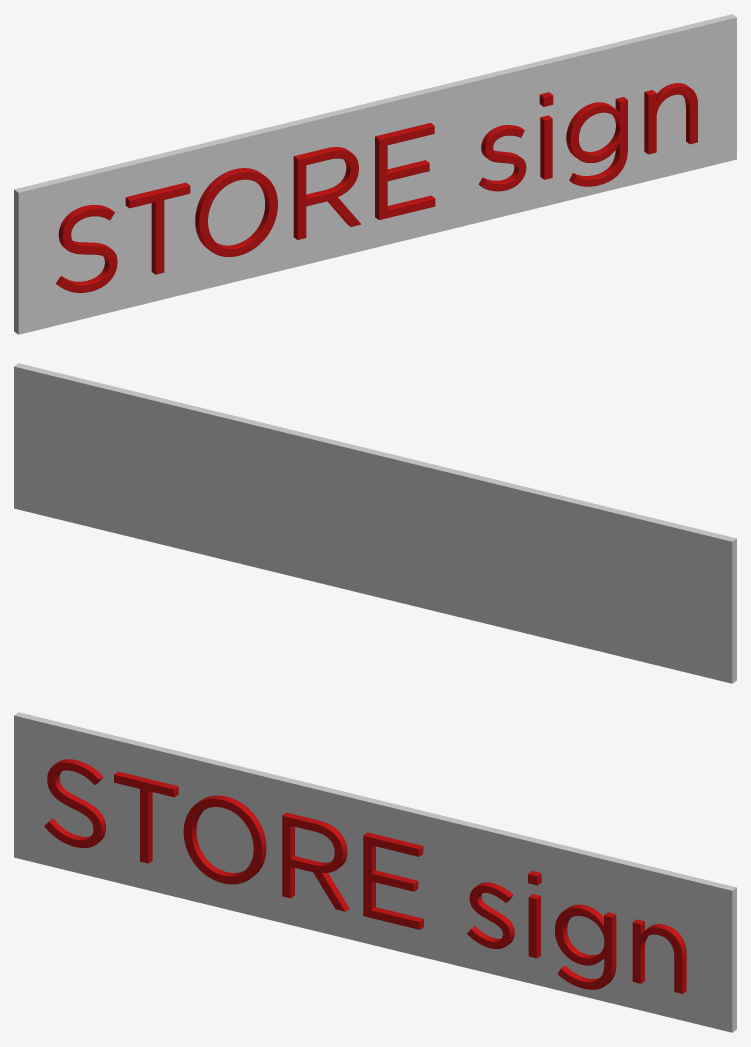
The model's file is store sign.obj.
3 renders of one model, top to bottom at view 1: azimuth 30°, elevation 25°; view 2: azimuth 150°, elevation 25°; view 3: azimuth 330°, elevation 25°, orthographic.
Visible parts, largest first — view 1: Cube, Cap_1, SIGN, Rounding; view 2: Cube; view 3: Cube, Cap_1, SIGN, Rounding.
Boxes of the visible parts, left/top/right/bottom form: Cube: left=14, top=14, right=736, bottom=334; Cap_1: left=61, top=86, right=697, bottom=292; SIGN: left=56, top=83, right=689, bottom=286; Rounding: left=59, top=85, right=697, bottom=292; Cube: left=14, top=363, right=736, bottom=683; Cube: left=14, top=712, right=736, bottom=1032; Cap_1: left=44, top=763, right=681, bottom=993; SIGN: left=49, top=759, right=686, bottom=993; Rounding: left=44, top=762, right=682, bottom=993.
Bounding box in the file's own units: 450 × 85 × 11.09.
